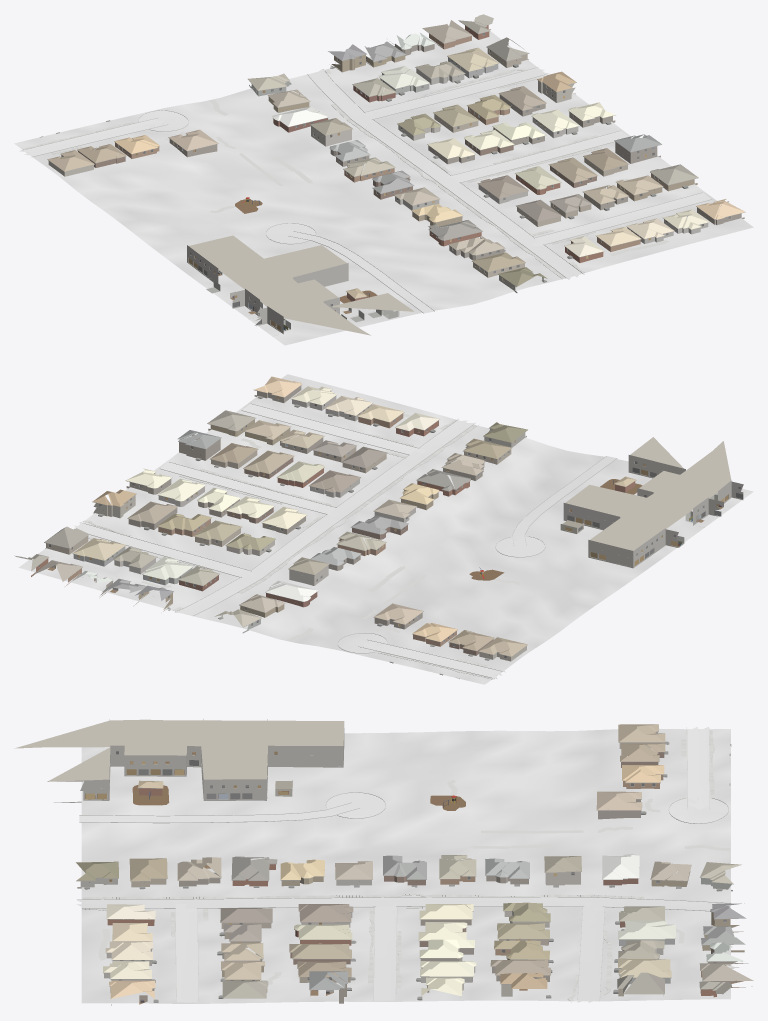
3 views of the same model, one above another, from view 1: azimuth 30°, elevation 25°; view 2: azimuth 150°, elevation 25°; view 3: azimuth 270°, elevation 25° (orthographic). The views are drawn at different scales.
Visible parts, largest first — view 1: ground, roof, concrete, wall, roof_flat, detail, walk, curb, wall_stucco, wall_com, wall_stone, glass (+1 smaller); view 2: ground, roof, concrete, wall, roof_flat, detail, wall_com, walk, curb, wall_stucco, wall_stone, glass (+1 smaller); view 3: ground, roof, concrete, roof_flat, wall, wall_com, walk, detail, curb, wall_stucco, wall_stone, glass (+1 smaller).
Part boxes in pixels (x1,y1,x2,y2): ground: (14, 31, 753, 345); roof: (47, 14, 744, 298); concrete: (20, 68, 711, 313); wall: (78, 25, 744, 301); roof_flat: (189, 235, 414, 335); detail: (40, 20, 745, 335); walk: (23, 69, 669, 278); curb: (21, 67, 711, 313); wall_stucco: (48, 57, 575, 292); wall_com: (187, 245, 348, 333); wall_stone: (395, 68, 708, 243); glass: (123, 28, 730, 325); ground: (18, 374, 753, 684); roof: (14, 376, 636, 656); concrete: (74, 404, 616, 679); wall: (31, 385, 635, 655); roof_flat: (562, 437, 731, 550); detail: (31, 383, 742, 678); wall_com: (560, 455, 743, 568); walk: (83, 403, 520, 678); curb: (81, 403, 617, 679); wall_stucco: (73, 428, 526, 661); wall_stone: (114, 391, 415, 574); glass: (39, 404, 743, 658); ground: (81, 728, 730, 1003); roof: (76, 724, 753, 998); concrete: (76, 726, 729, 1002); roof_flat: (14, 719, 344, 788); wall: (107, 752, 752, 1005); wall_com: (48, 728, 344, 802); walk: (82, 729, 730, 1001); detail: (76, 719, 742, 1002); curb: (77, 727, 730, 1001); wall_stucco: (77, 732, 732, 996); wall_stone: (104, 880, 663, 983); glass: (116, 751, 726, 981).
Size of the model in its own units: 256 by 14.64 by 285.
